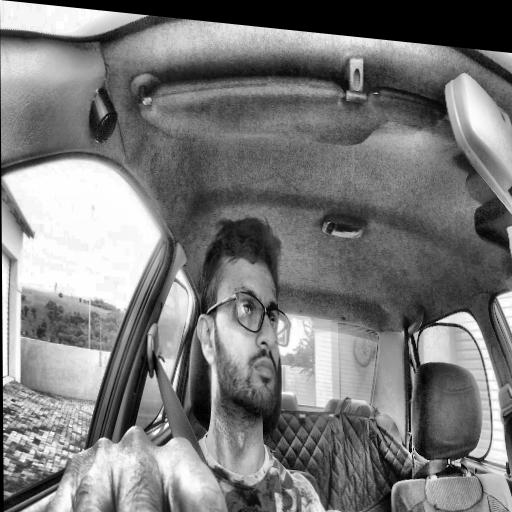awake: (196, 208, 292, 434)
